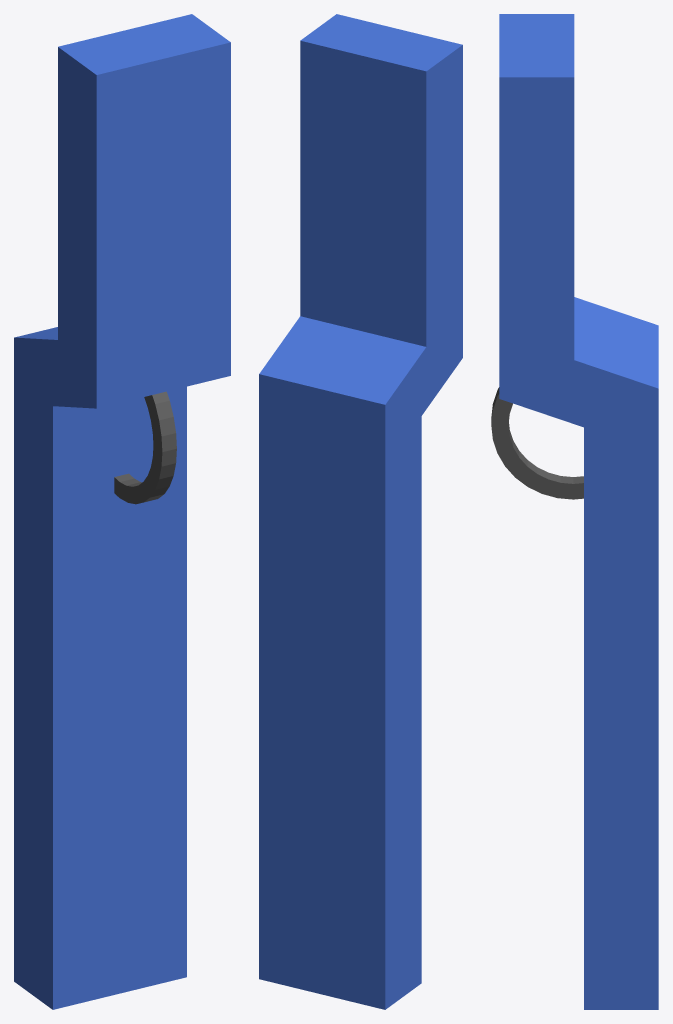
File: block3.fbx
The picture shows the model from 3 angles, left to right: view 1: azimuth 30°, elevation 25°; view 2: azimuth 150°, elevation 25°; view 3: azimuth 270°, elevation 25°; orthographic projection. The views are drawn at different scales.
Parts seen in each view (by area): view 1: Cube.005; view 2: Cube.005; view 3: Cube.005.
Part boxes in pixels (box(x1,y1,x2,y2)): Cube.005: box(14, 14, 230, 1009); Cube.005: box(259, 14, 462, 1009); Cube.005: box(491, 14, 658, 1009).
Bounding box in the file's own units: 200 × 1376 × 224.
